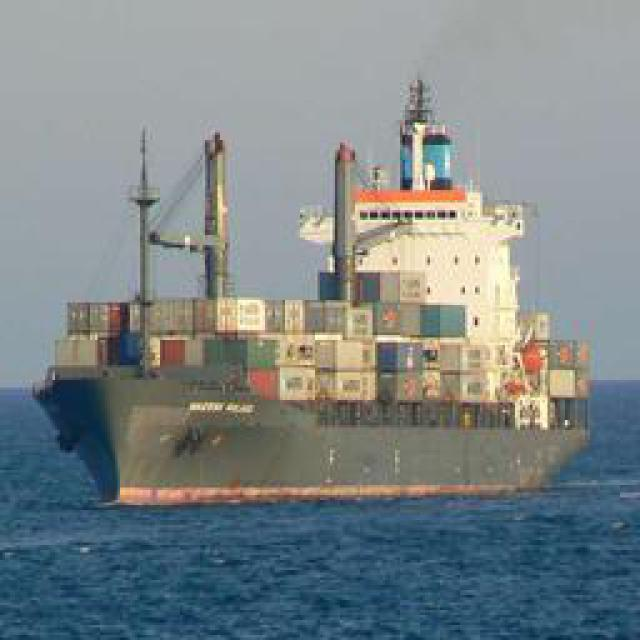Ship: (28, 69, 608, 523)
